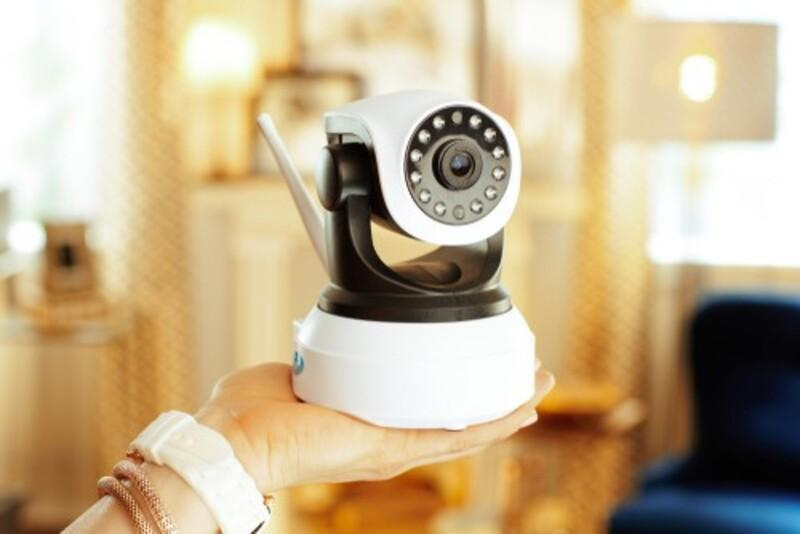ptz: (296, 96, 549, 426)
